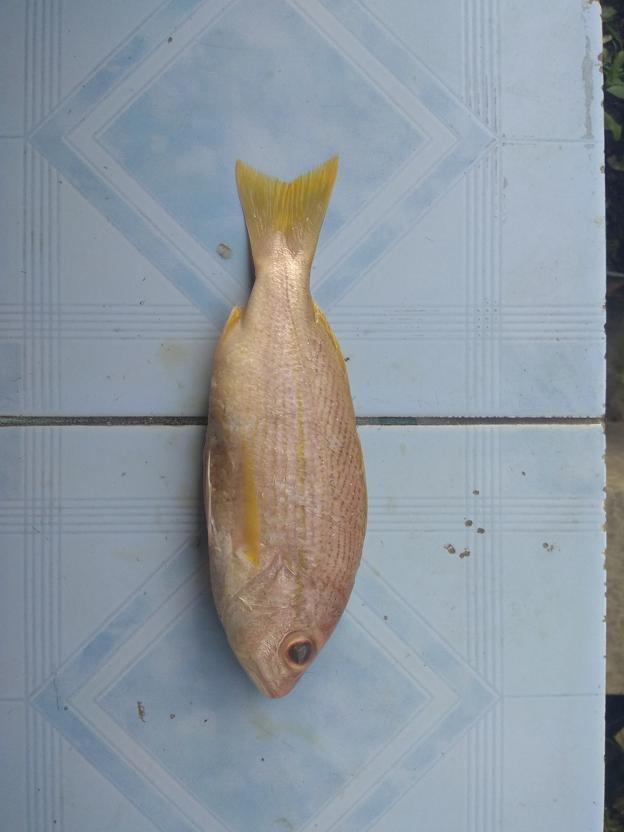Fish head: (216, 553, 356, 700)
Fish tail: (234, 154, 344, 268)
